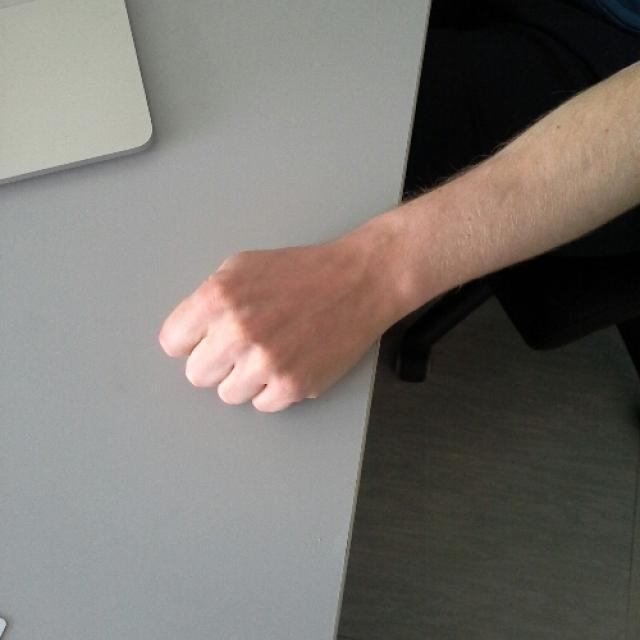fist: (162, 241, 358, 411)
